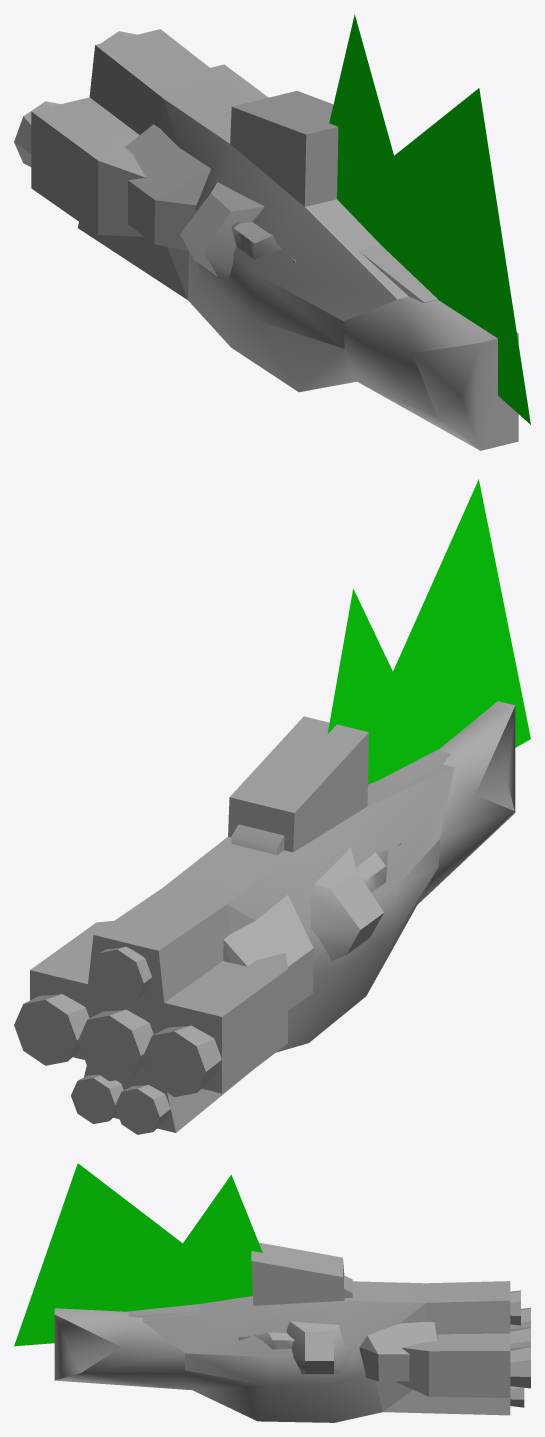
The model's file is references.fbx.
3 views of the same model, one above another, from view 1: azimuth 30°, elevation 25°; view 2: azimuth 150°, elevation 25°; view 3: azimuth 270°, elevation 25° (orthographic). The views are drawn at different scales.
Parts seen in each view (by area): view 1: BB, C4_turret, CH, C2_turret, C3_turret, CL; view 2: BB, C4_turret, CH, C2_turret, C3_turret, CL; view 3: BB, C5_turret, CH, C2_turret, C4_turret, CL.
Boxes of the visible parts, x1,y1,x2,y2 form: BB: [14, 29, 518, 450]; C4_turret: [394, 88, 530, 424]; CH: [124, 124, 437, 302]; C2_turret: [329, 14, 432, 293]; C3_turret: [394, 143, 436, 297]; CL: [231, 221, 281, 259]; BB: [14, 701, 515, 1134]; C4_turret: [393, 479, 530, 750]; CH: [223, 750, 450, 1010]; C2_turret: [327, 589, 431, 784]; C3_turret: [393, 631, 435, 752]; CL: [356, 850, 388, 892]; BB: [54, 1242, 530, 1422]; C5_turret: [14, 1165, 249, 1346]; CH: [128, 1275, 437, 1381]; C2_turret: [183, 1174, 262, 1295]; C4_turret: [26, 1163, 251, 1343]; CL: [253, 1332, 294, 1349].
Bounding box in the file's own units: 806 × 1608 × 3045.
